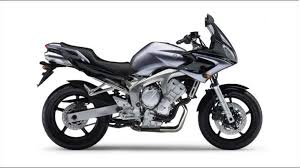motorcycle: (38, 12, 264, 153)
